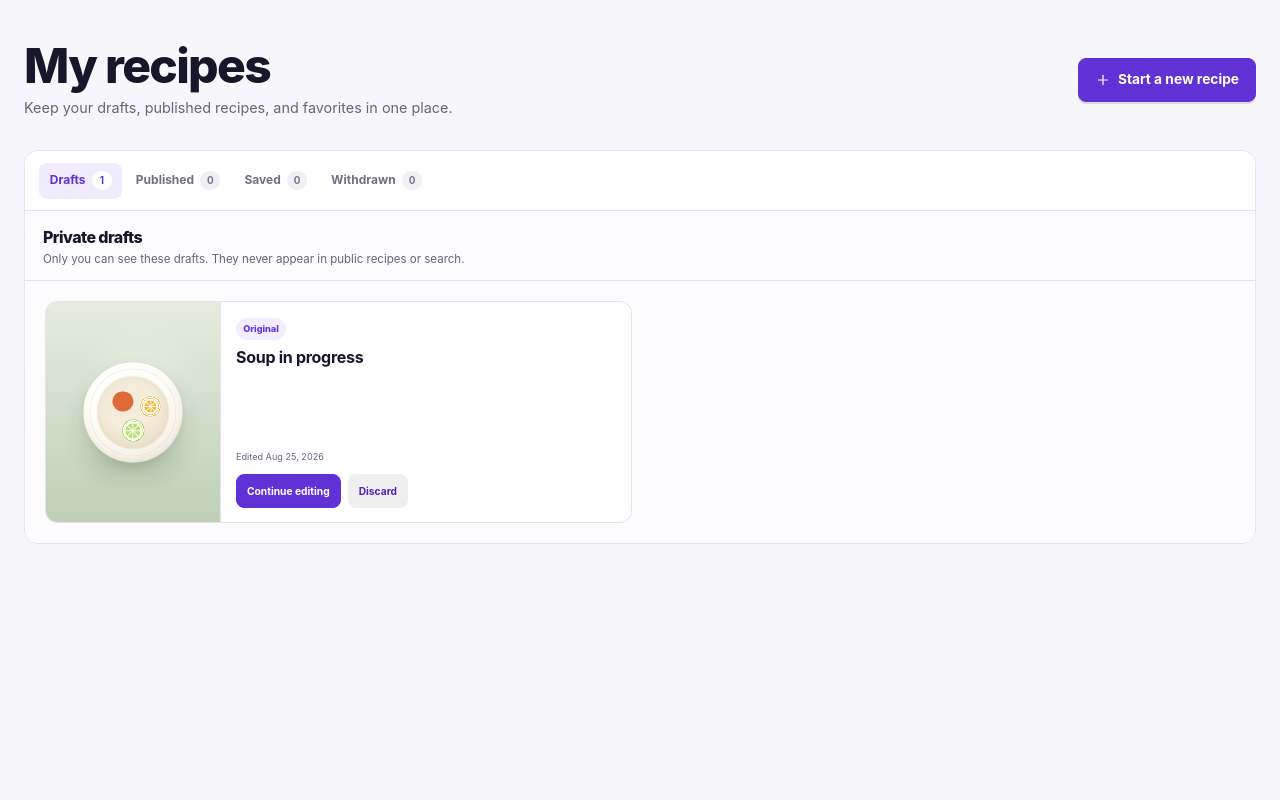
it: cook profile and private recipe libraries › discards a private draft from My recipes and stays in the Drafts view
Click the button "Discard".
click(378, 492)  # box 348,474 -> 408,508
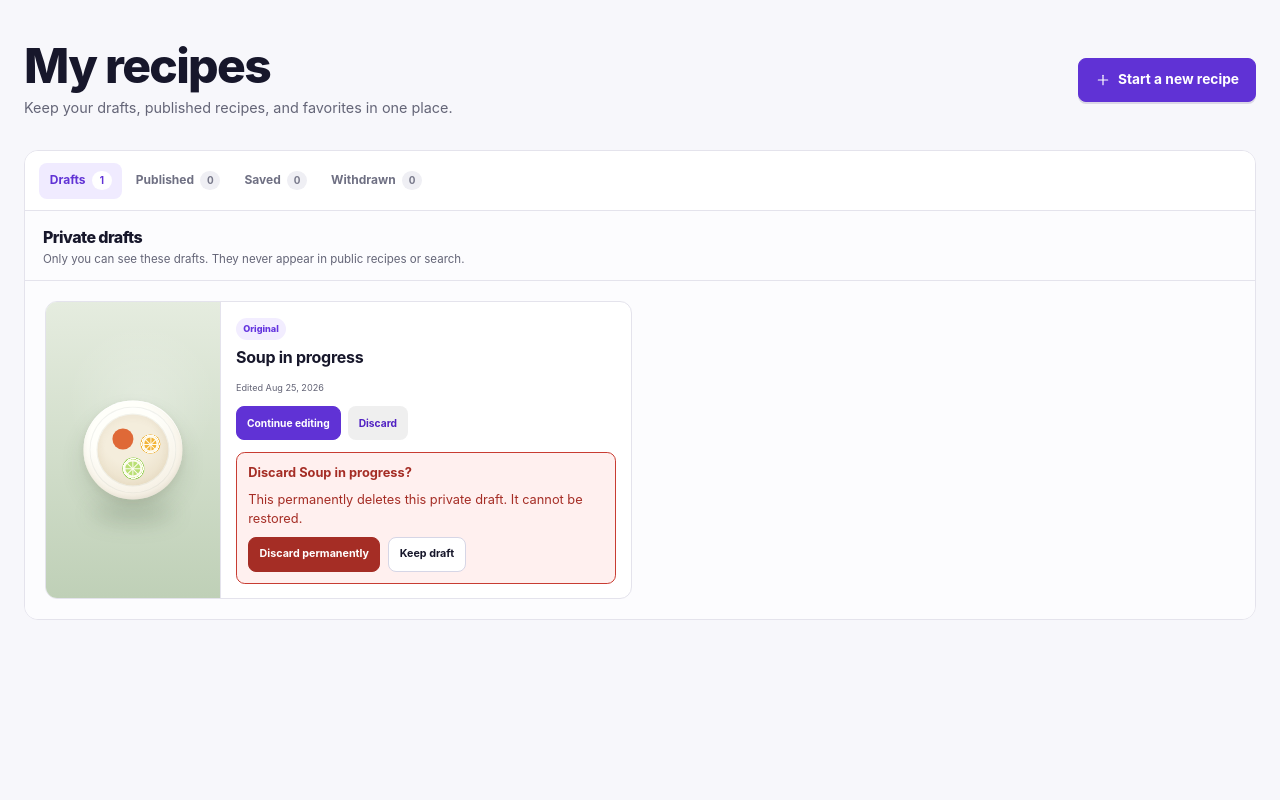
Expected: the element "Discard Soup in progress" shows "cannot be restored", 248,492 -> 583,526
Click the button "Discard permanently".
click(314, 554)  # box 248,537 -> 380,572
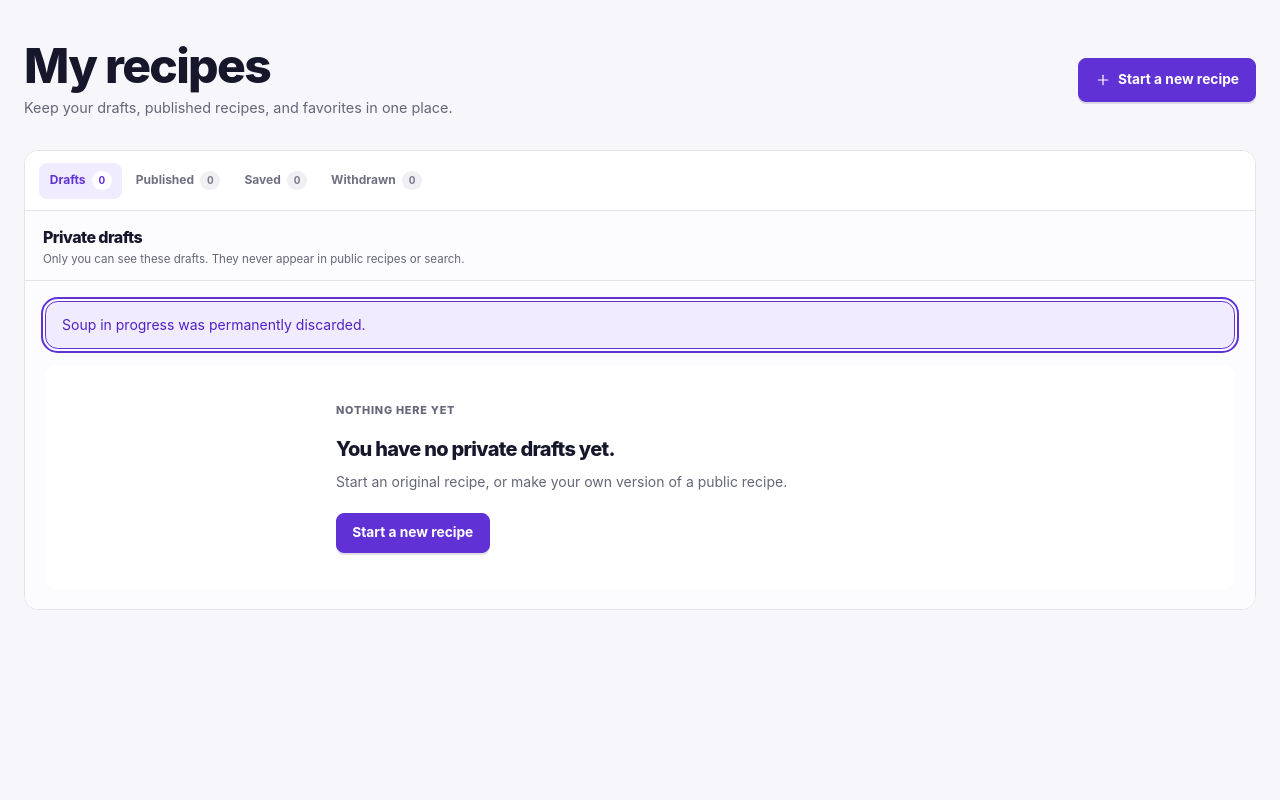
Expected: the message reads "Soup in progress was permanently discarded.", 62,316 -> 366,333
Expected: the heading "You have no private drafts yet." is shown, 336,437 -> 615,461
